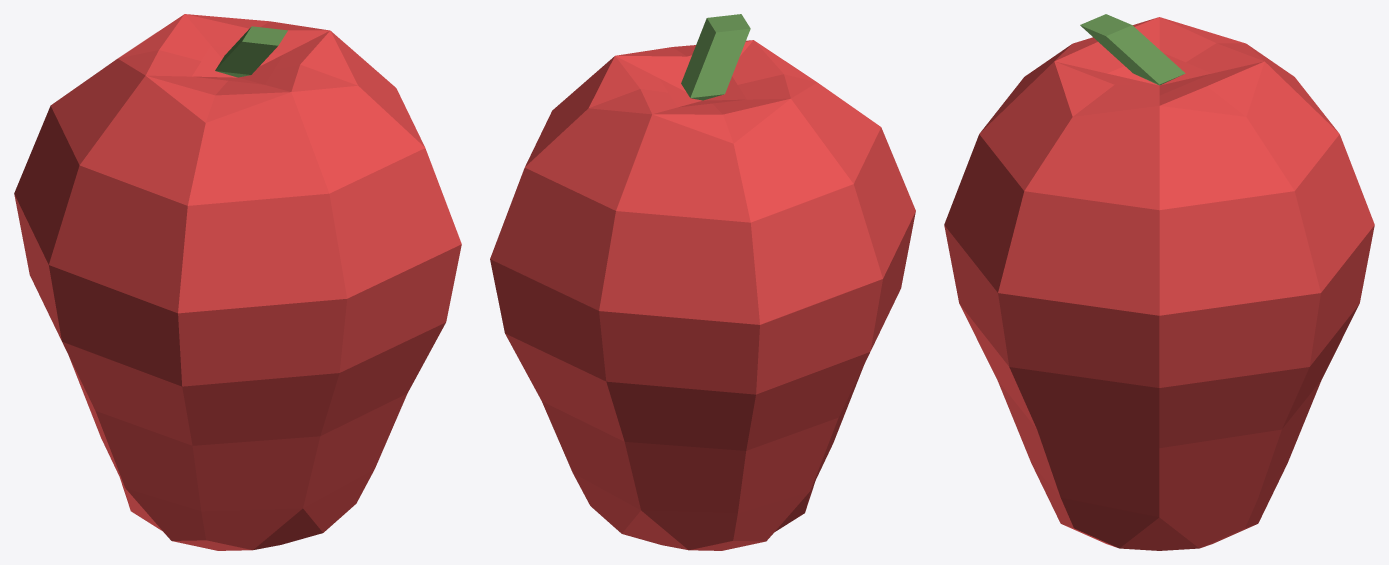
File: Apple.fbx
3 views of the same model, side by side, from view 1: azimuth 30°, elevation 25°; view 2: azimuth 150°, elevation 25°; view 3: azimuth 270°, elevation 25° (orthographic). The views are drawn at different scales.
Parts seen in each view (by area): view 1: Cube, Cube.001; view 2: Cube, Cube.001; view 3: Cube, Cube.001.
Boxes of the visible parts, <box> form: Cube: <box>14,14,461,550</box>; Cube.001: <box>215,26,287,77</box>; Cube: <box>490,40,915,550</box>; Cube.001: <box>681,14,750,100</box>; Cube: <box>944,17,1374,550</box>; Cube.001: <box>1080,14,1185,85</box>.
Size of the model in its own units: 403 by 513 by 403.
